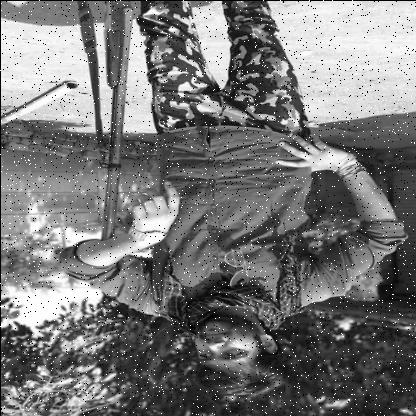rifle: (97, 0, 135, 242)
